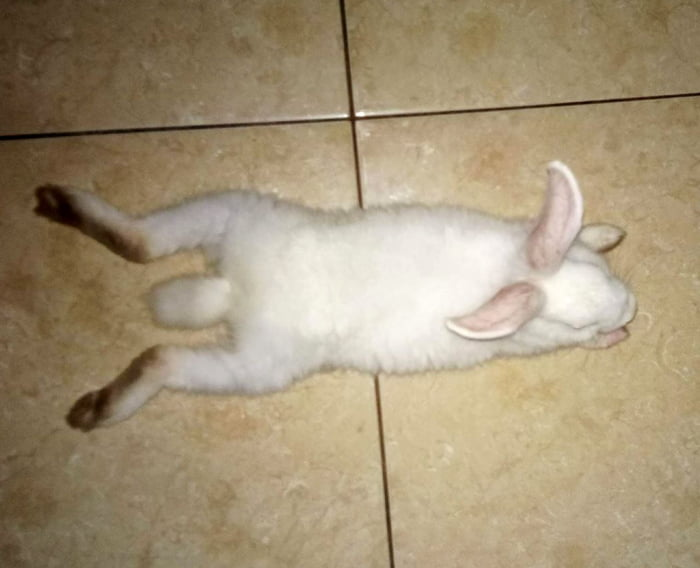bunny: (24, 132, 657, 446)
